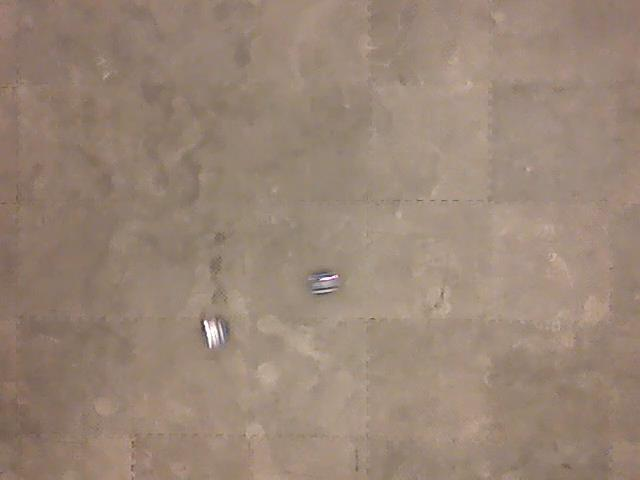Agent: (198, 313, 232, 351), (305, 268, 343, 298)
